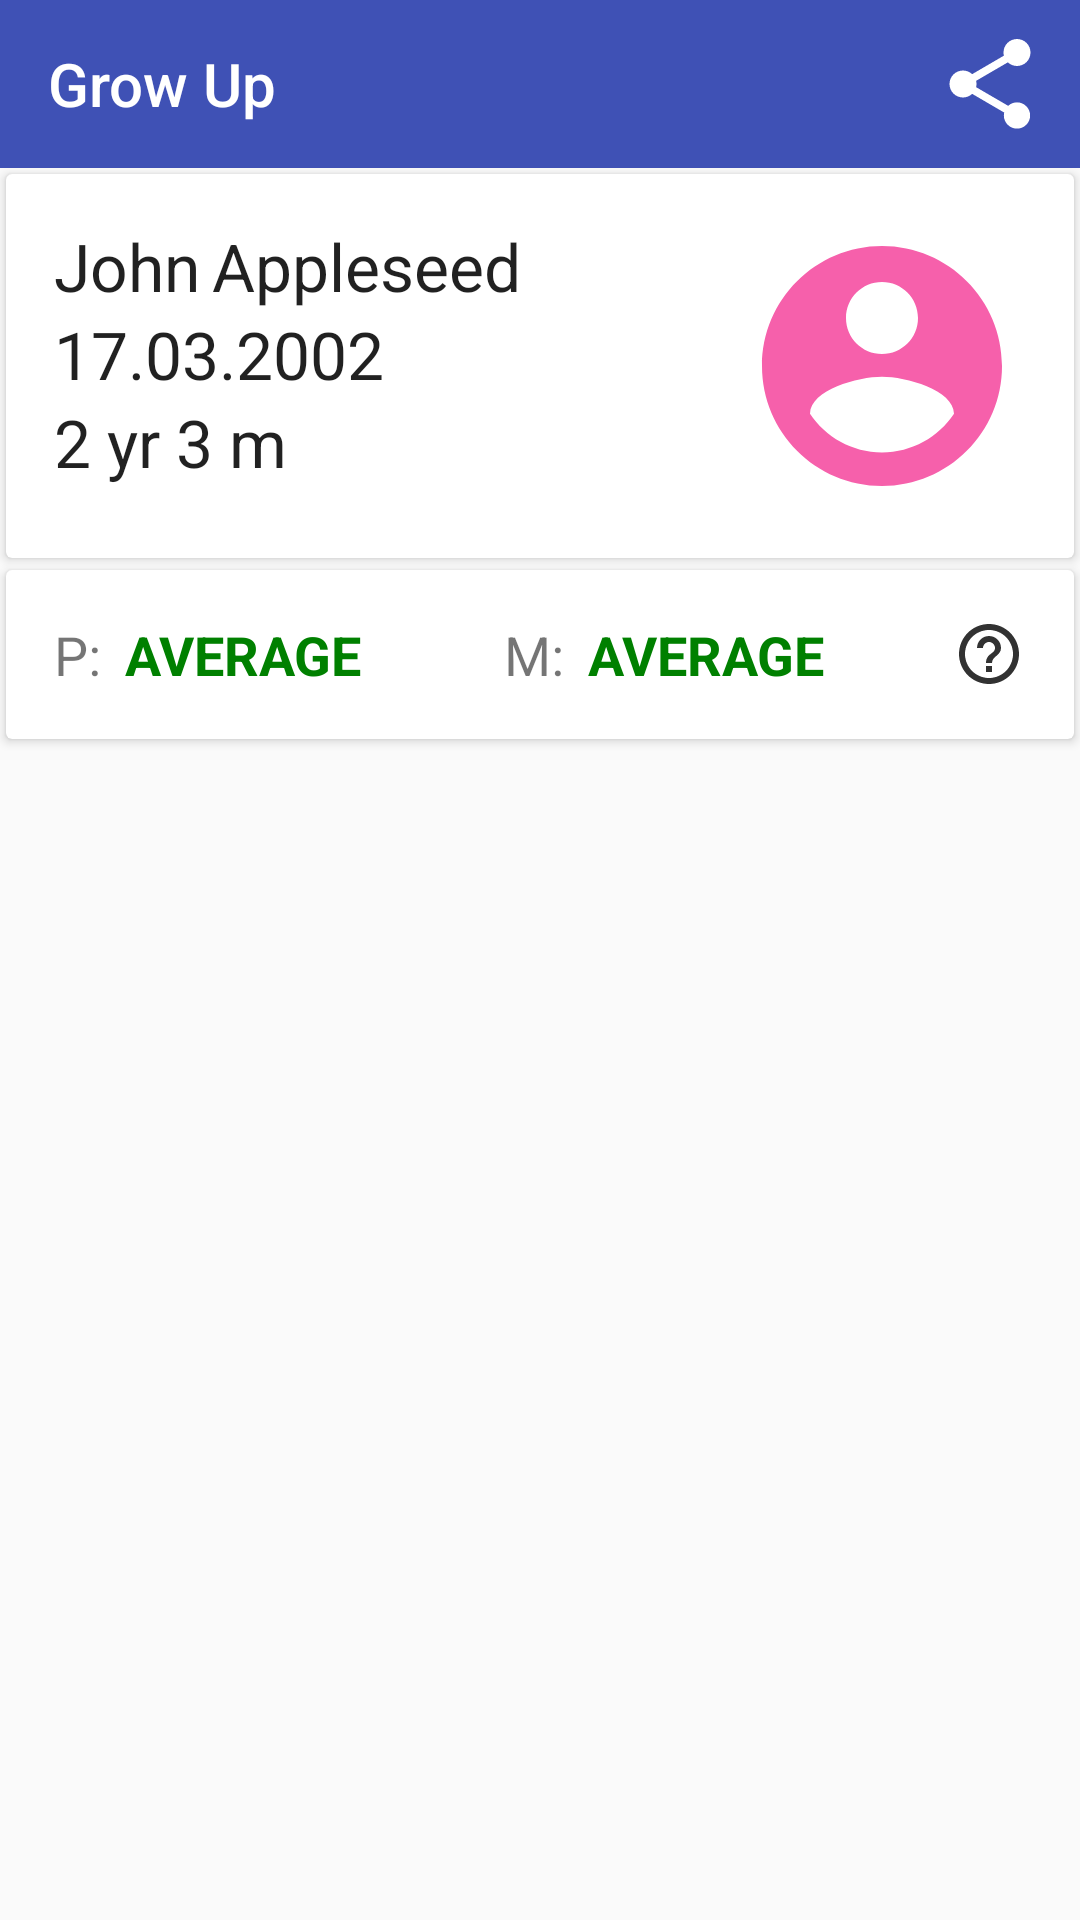

Where to tap for icons on this 1080 x 1920 app screen, as (x,y):
account circle magenta: (882,366)
help: (989,654)
share: (990,84)
